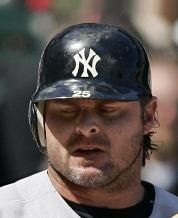face: (56, 102, 122, 162)
